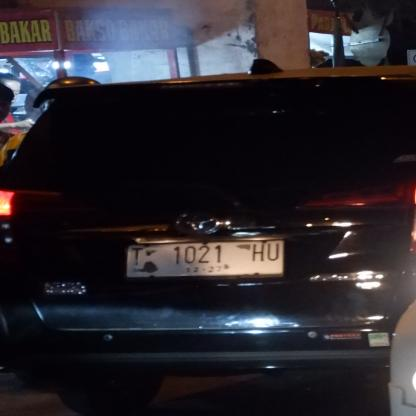Plat-Nomor: (120, 233, 293, 283)
